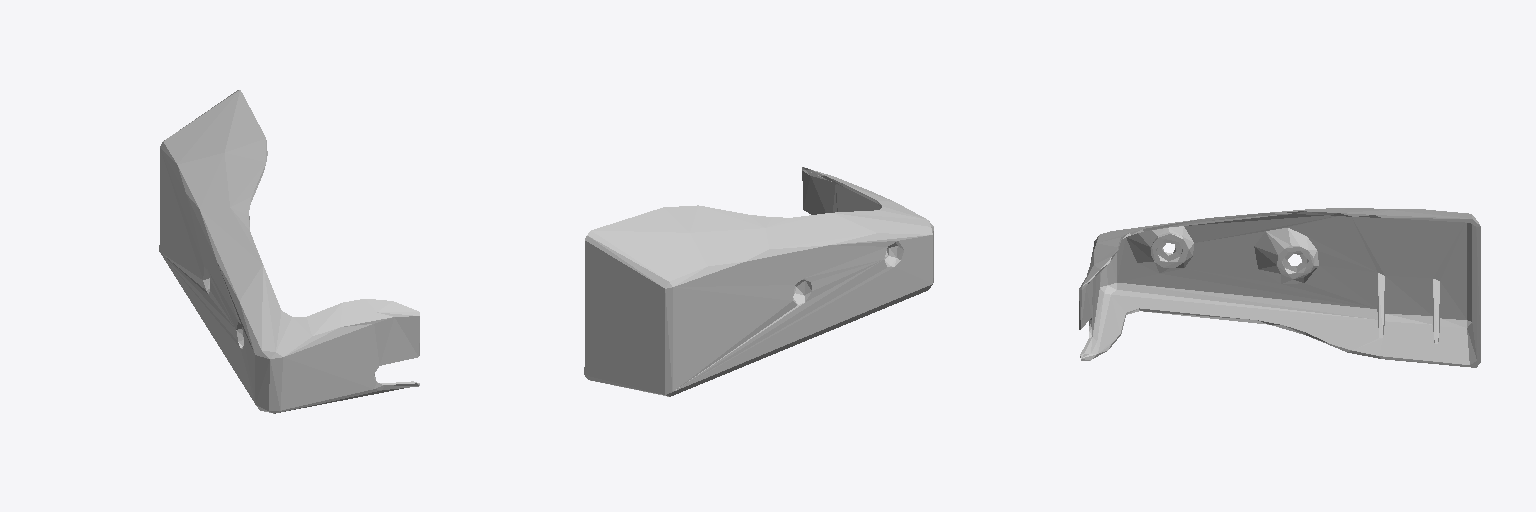
File: right_rear_or.obj
3 views of the same model, side by side, from view 1: azimuth 30°, elevation 25°; view 2: azimuth 150°, elevation 25°; view 3: azimuth 270°, elevation 25° (orthographic).
Parts seen in each view (by area): view 1: Right_back_part; view 2: Right_back_part; view 3: Right_back_part.
Part boxes in pixels (bbox=[...]): Right_back_part: bbox=[159, 90, 419, 413]; Right_back_part: bbox=[584, 167, 933, 396]; Right_back_part: bbox=[1079, 208, 1480, 367].
Size of the model in its own units: 0.0959 by 0.0844 by 0.2014.